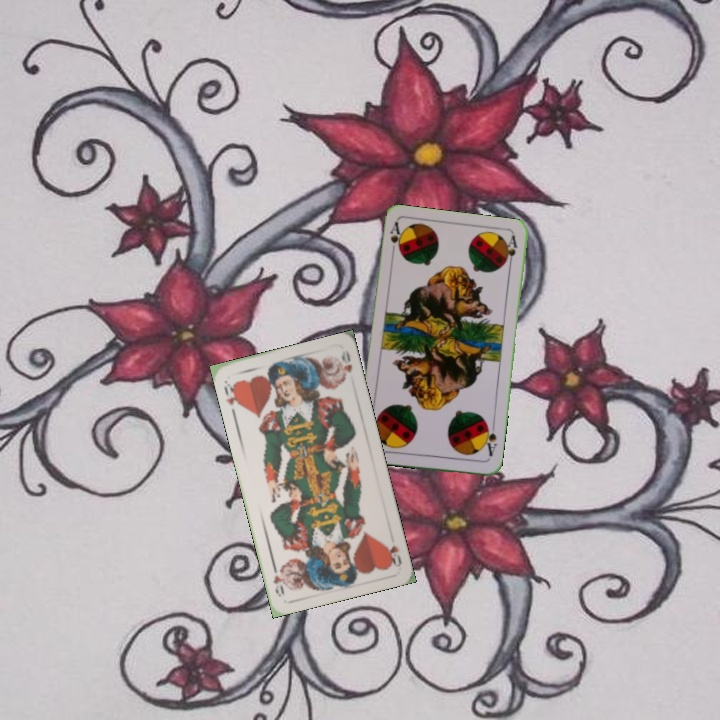HO: (220, 377, 243, 408), (382, 540, 404, 570)
SA: (386, 219, 405, 259), (480, 420, 499, 459)
